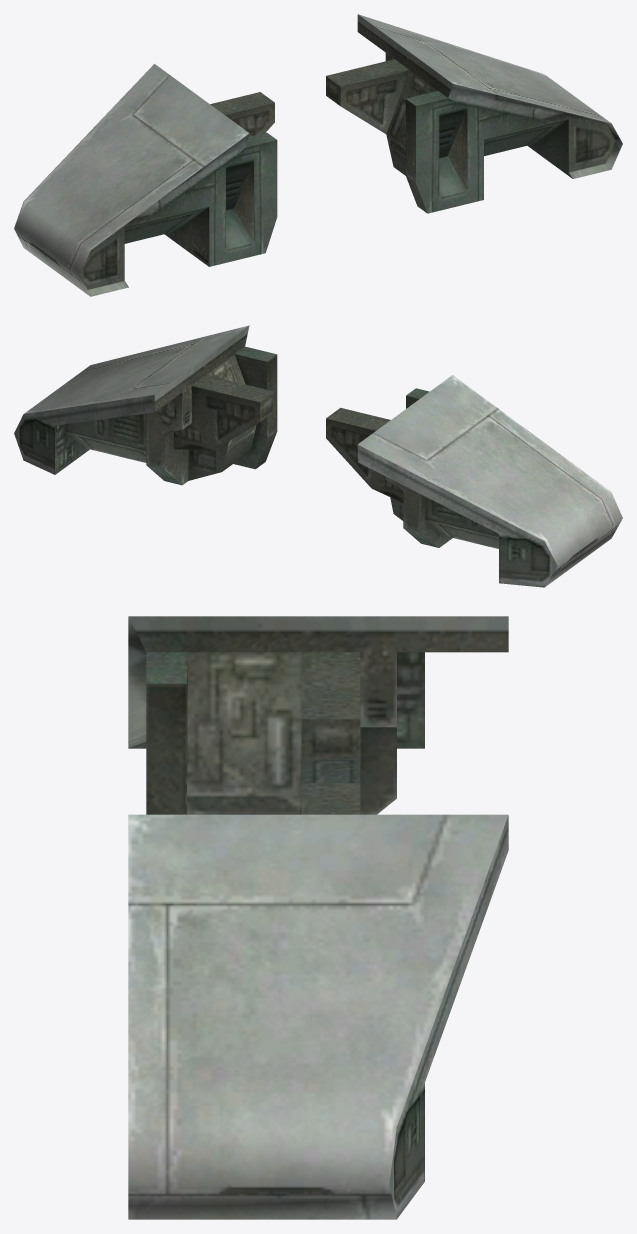
File: black_sun_fighter_light_struct_s01_l1.fbx
The picture shows the model from 3 angles, top to bottom: view 1: azimuth 30°, elevation 25°; view 2: azimuth 150°, elevation 25°; view 3: azimuth 270°, elevation 25°; orthographic projection. The views are drawn at different scales.
Visible parts, largest first — view 1: mesh_node; view 2: mesh_node; view 3: mesh_node.
Part boxes in pixels (left/top/right/bottom): mesh_node: left=14, top=14, right=622, bottom=296; mesh_node: left=14, top=325, right=622, bottom=587; mesh_node: left=128, top=616, right=508, bottom=1219.
Size of the model in its own units: 12.16 by 2.74 by 3.68.
